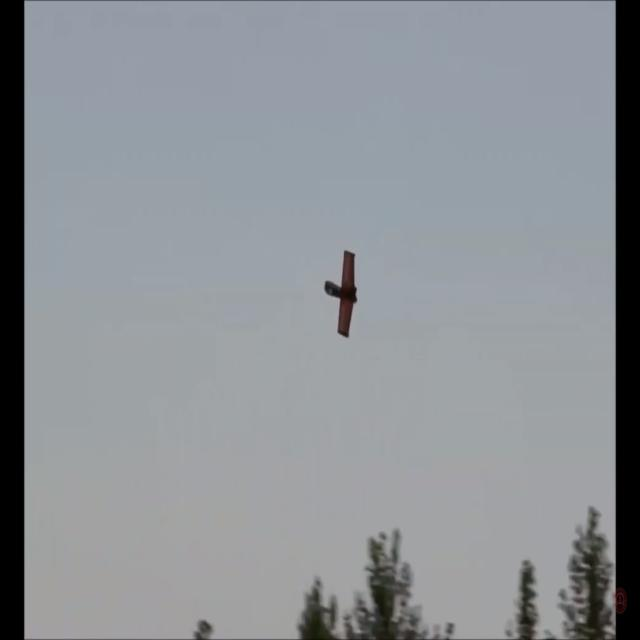iha: (323, 281, 358, 309)
